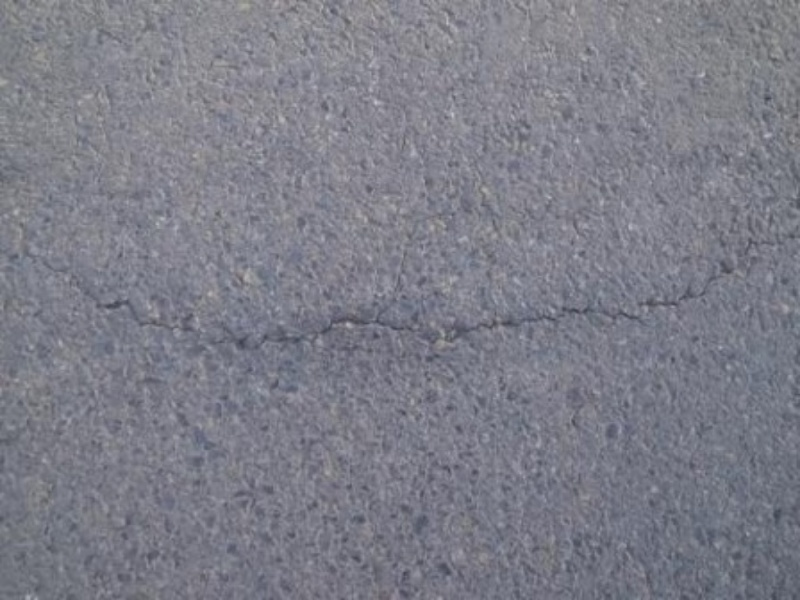crack: (25, 218, 782, 389)
